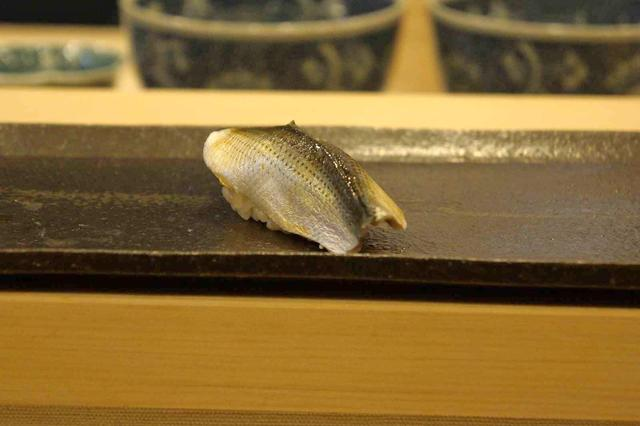spotted-shad: (202, 124, 409, 255)
